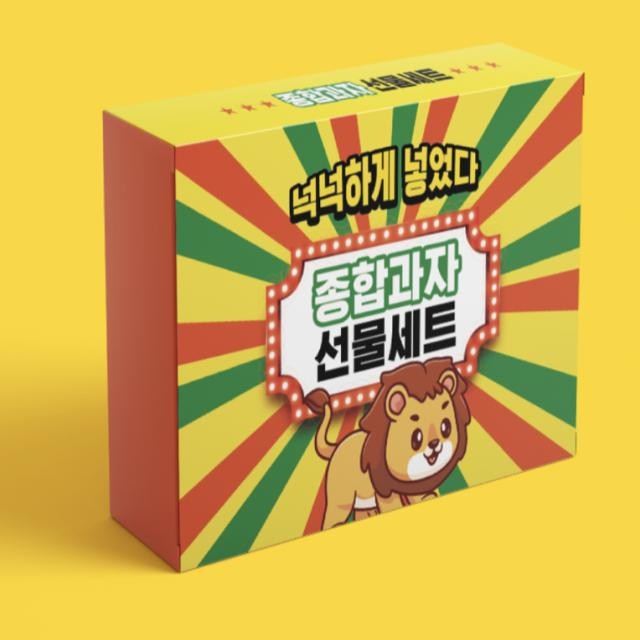biodegradable: (85, 27, 598, 596)
